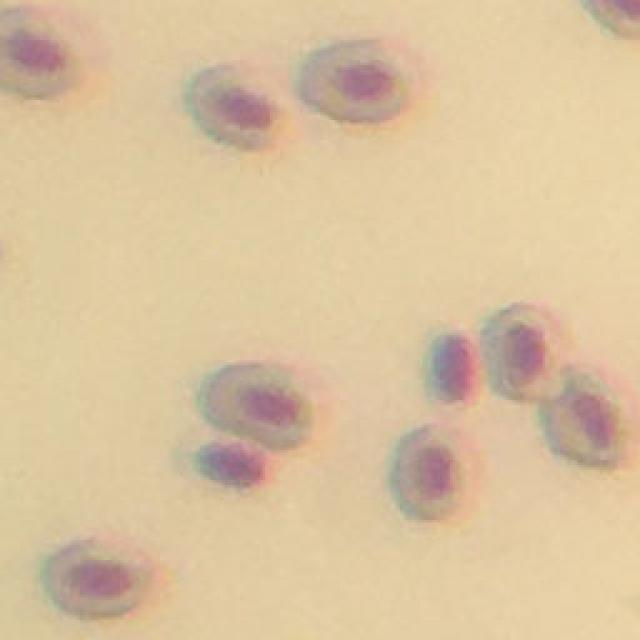RBC: (42, 534, 165, 619), (198, 362, 309, 448), (299, 40, 414, 123), (539, 366, 628, 467), (186, 62, 278, 149), (481, 302, 560, 400), (390, 425, 463, 520)
WBC: (431, 335, 478, 401), (198, 441, 265, 486)
